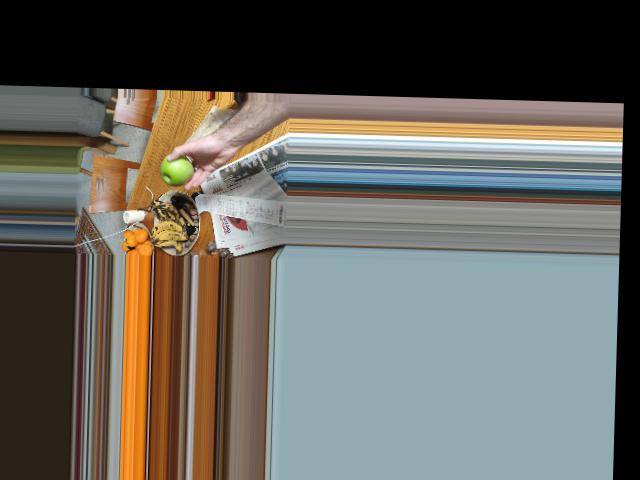apple: (157, 149, 199, 187)
